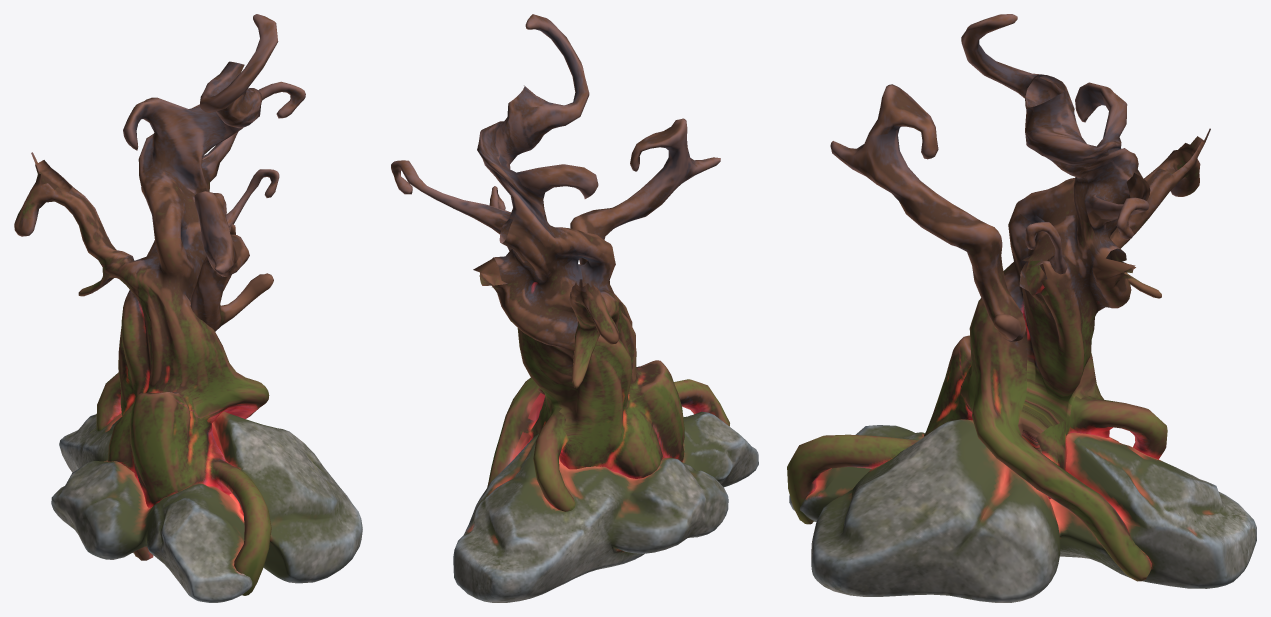
The model's file is Tree3.fbx.
3 renders of one model, left to right at view 1: azimuth 30°, elevation 25°; view 2: azimuth 150°, elevation 25°; view 3: azimuth 270°, elevation 25°, orthographic. The views are drawn at different scales.
Parts seen in each view (by area): view 1: Tree3; view 2: Tree3; view 3: Tree3.
Boxes of the visible parts, x1,y1,x2,y2 form: Tree3: (14, 14, 362, 602); Tree3: (391, 14, 758, 602); Tree3: (787, 14, 1256, 602).
Size of the model in its own units: 433 by 770 by 551.
